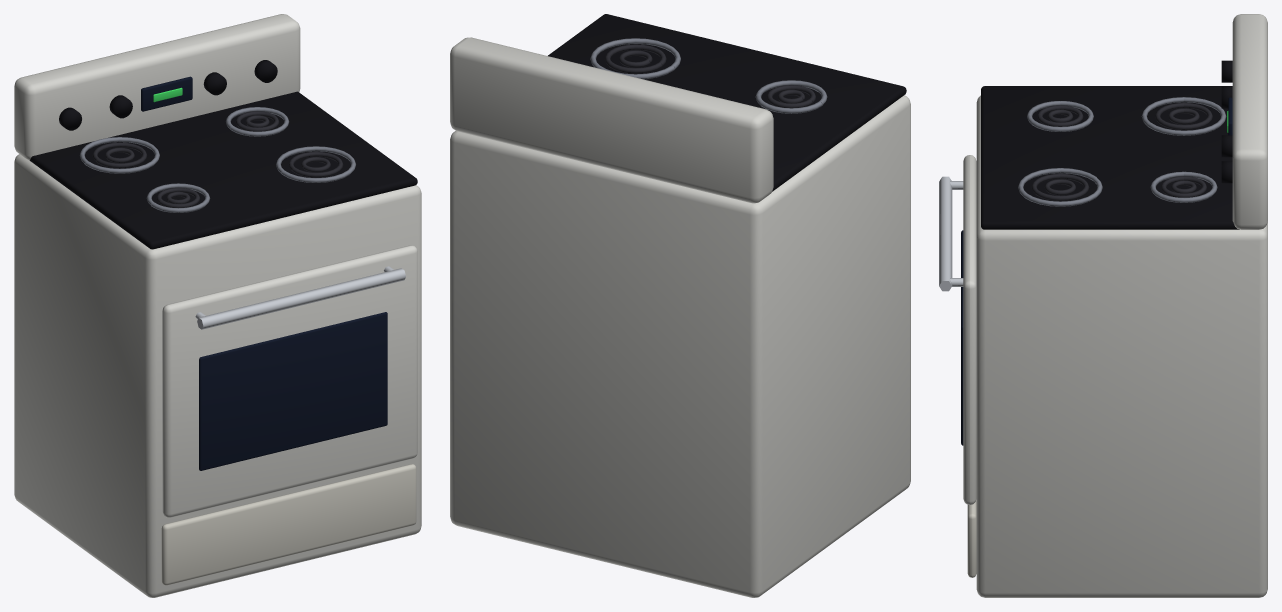
Rendered from stove.glb.
The picture shows the model from 3 angles, left to right: view 1: azimuth 30°, elevation 25°; view 2: azimuth 150°, elevation 25°; view 3: azimuth 270°, elevation 25°; orthographic projection. The views are drawn at different scales.
Visible parts, largest first — view 1: stove; view 2: stove; view 3: stove.
Boxes of the visible parts, left/top/right/bottom form: stove: left=14, top=14, right=421, bottom=597; stove: left=450, top=14, right=910, bottom=597; stove: left=939, top=14, right=1267, bottom=597.
Size of the model in its own units: 0.76 by 1.12 by 0.745.
